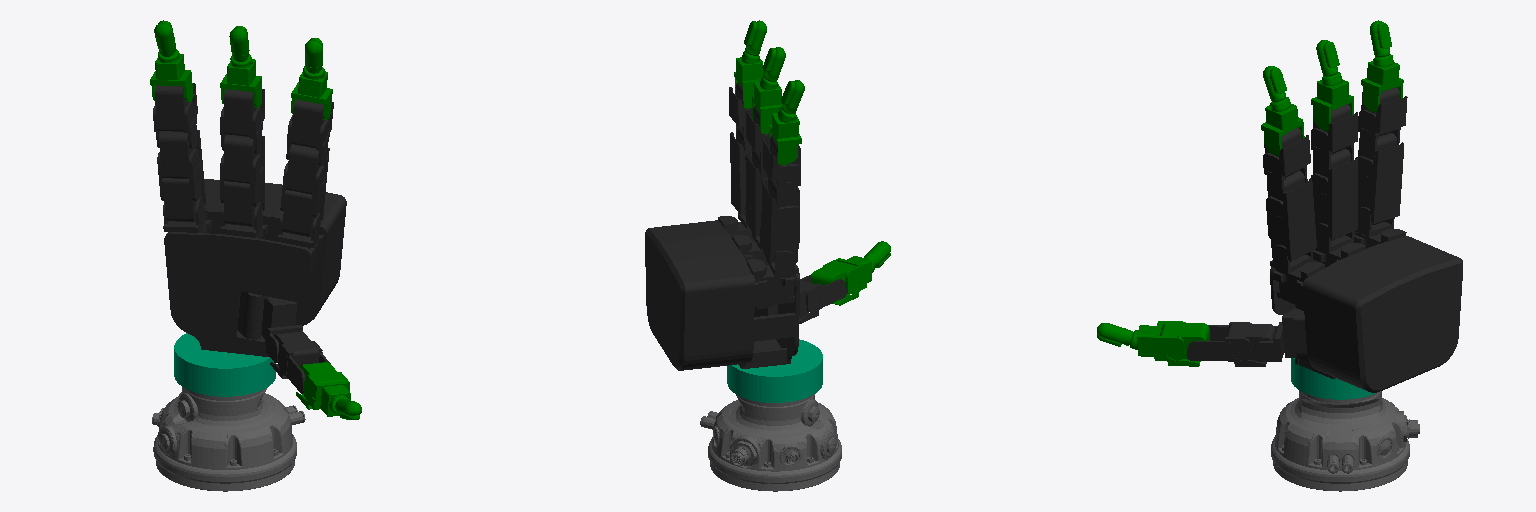
--- Facts derived from the render (not from the file) ---
Views: 3 orthographic renders of the robot side by side, from view 1: azimuth 30°, elevation 25°; view 2: azimuth 150°, elevation 25°; view 3: azimuth 270°, elevation 25°.
Robot: kuka_allegro — 28 links, 27 joints (23 revolute, 4 fixed); root link iiwa7_base_link; default pose: all joints at 0 but 1 set to mid-range because 0 is outside their limits (thumb_joint_0 = 0.925).
Links seen in each view (by area): view 1: palm_link, iiwa7_link_7, allegro_mount, ring_link_1, middle_link_1, index_link_1, thumb_link_3, thumb_link_0, ring_link_2, middle_link_2, index_link_2, ring_link_3 (+7 smaller); view 2: palm_link, iiwa7_link_7, allegro_mount, ring_link_1, thumb_link_3, ring_link_3, middle_link_3, index_link_3, ring_link_2, thumb_link_2, middle_link_1, index_link_1 (+3 smaller); view 3: palm_link, iiwa7_link_7, index_link_1, ring_link_1, thumb_link_3, middle_link_1, thumb_link_2, ring_link_3, middle_link_3, ring_link_2, index_link_3, middle_link_2 (+4 smaller).
Boxes of the visible links, bbox=[...] form: palm_link: bbox=[164, 179, 346, 356]; iiwa7_link_7: bbox=[152, 387, 305, 491]; allegro_mount: bbox=[174, 333, 275, 396]; ring_link_1: bbox=[157, 130, 205, 221]; middle_link_1: bbox=[220, 135, 264, 226]; index_link_1: bbox=[280, 144, 329, 236]; thumb_link_3: bbox=[296, 362, 361, 419]; thumb_link_0: bbox=[237, 292, 296, 344]; ring_link_2: bbox=[153, 83, 197, 148]; middle_link_2: bbox=[220, 89, 264, 154]; index_link_2: bbox=[286, 99, 333, 165]; ring_link_3: bbox=[150, 20, 193, 101]; palm_link: bbox=[645, 214, 799, 370]; iiwa7_link_7: bbox=[700, 394, 841, 491]; allegro_mount: bbox=[727, 339, 822, 402]; ring_link_1: bbox=[761, 180, 799, 263]; thumb_link_3: bbox=[811, 241, 890, 305]; ring_link_3: bbox=[769, 80, 804, 164]; middle_link_3: bbox=[752, 47, 785, 133]; index_link_3: bbox=[734, 20, 766, 108]; ring_link_2: bbox=[763, 135, 800, 206]; thumb_link_2: bbox=[799, 274, 846, 323]; middle_link_1: bbox=[746, 151, 768, 236]; index_link_1: bbox=[730, 127, 752, 215]; palm_link: bbox=[1270, 225, 1462, 392]; iiwa7_link_7: bbox=[1271, 390, 1419, 491]; index_link_1: bbox=[1266, 170, 1316, 261]; ring_link_1: bbox=[1357, 133, 1403, 224]; thumb_link_3: bbox=[1097, 321, 1209, 366]; middle_link_1: bbox=[1311, 149, 1357, 240]; thumb_link_2: bbox=[1187, 322, 1275, 366]; ring_link_3: bbox=[1361, 20, 1403, 112]; middle_link_3: bbox=[1311, 40, 1353, 131]; ring_link_2: bbox=[1358, 87, 1407, 159]; index_link_3: bbox=[1261, 66, 1304, 156]; middle_link_2: bbox=[1311, 104, 1357, 176].
Size in the robot's own frame: 0.165 by 0.2818 by 0.3603 metres.
Meshes: 18 distinct files referenced, 19 mesh visuals loaded (11 OBJ); not drawn: 7 (reference not matched to a file when rendering).

URDF robot description (kuka_allegro):
<?xml version="1.0" ?>
<!-- This file was autogenerated but we have modified quite a bit
Authors: Karl, Ankur

Karl did the dynamics compensation and obtained the following values for the index finger

Noise: 0.111576
Masses: 0.005, 0.125164, 0.131691, 0.0211922,
Rotor Inertia: 0.00386572, 0.00346965, 0.00433775, 0.00366413,
Viscous Friction: 0.0414019, 0.00587541, 0.010638, 0.0226948,
Coulomb Friction: 0.0523963, 0.0150275, 0.00616359, 0.0227036,
Mass Inertia:
5.1458e-05, 5.1458e-05, 6.125e-05, 0, 0, 0,
6.39979e-06, 8.88687e-05, 9.13751e-05, -3.26531e-06, 1.23963e-05, 2.07384e-05,
7.04217e-05, 3.95744e-05, 6.61125e-05, -9.64342e-05, 5.8796e-05, -3.62996e-05,
2.93743e-05, 7.21391e-05, 7.59731e-05, -3.51896e-05, -6.31225e-05, -9.25392e-07,

Center of Mass:
0, 0, 0,
0.027, 0, 0,
0.038, 0, 0,
0.029, 0, 0,

-->

<robot name="kuka_allegro" xmlns:xacro="http://www.ros.org/wiki/xacro">
  <material name="Black">
    <color rgba="0.0 0.0 0.0 1.0"/>
  </material>
  <material name="Blue">
    <color rgba="0.0 0.0 0.8 1.0"/>
  </material>
  <material name="Green">
    <color rgba="0.0 0.8 0.0 1.0"/>
  </material>
  <material name="Grey">
    <color rgba="0.4 0.4 0.4 1.0"/>
  </material>
  <material name="Orange">
    <color rgba="1.0 0.423529411765 0.0392156862745 1.0"/>
  </material>
  <material name="Brown">
    <color rgba="0.870588235294 0.811764705882 0.764705882353 1.0"/>
  </material>
  <material name="Red">
    <color rgba="0.8 0.0 0.0 1.0"/>
  </material>
  <material name="White">
    <color rgba="1.0 1.0 1.0 1.0"/>
  </material>
  <link name="iiwa7_base_link"/>
  <!--joint between {parent} and link_0-->
  <joint name="iiwa7_base_link_iiwa7_joint" type="fixed">
    <origin rpy="0 0 0" xyz="0 0 0"/>
    <parent link="iiwa7_base_link"/>
    <child link="iiwa7_link_0"/>
  </joint>
  <link name="iiwa7_link_0">
    <inertial>
      <origin rpy="0 0 0" xyz="-0.1 0 0.07"/>
      <mass value="5"/>
      <inertia ixx="0.05" ixy="0" ixz="0" iyy="0.06" iyz="0" izz="0.03"/>
    </inertial>
    <visual>
      <origin rpy="0 0 0" xyz="0 0 0"/>
      <geometry>
        <mesh filename="kuka_allegro_description/meshes/iiwa7/visual/link_0.obj"/>
      </geometry>
      <material name="Grey"/>
    </visual>
    <collision>
      <origin rpy="0 0 0" xyz="0 0 0"/>
      <geometry>
        <mesh filename="kuka_allegro_description/meshes/iiwa7/collision/link_0.obj"/>
      </geometry>
      <material name="Grey"/>
    </collision>
    <self_collision_checking>
      <origin rpy="0 0 0" xyz="0 0 0"/>
      <geometry>
        <capsule length="0.25" radius="0.15"/>
      </geometry>
    </self_collision_checking>
  </link>
  <!-- joint between link_0 and link_1 -->
  <joint name="iiwa7_joint_1" type="revolute">
    <parent link="iiwa7_link_0"/>
    <child link="iiwa7_link_1"/>
    <origin rpy="0 0 0" xyz="0 0 0.15"/>
    <axis xyz="0 0 1"/>
    <limit effort="300" lower="-2.96705972839" upper="2.96705972839" velocity="10"/>
    <safety_controller k_position="100" k_velocity="2" soft_lower_limit="-2.93215314335" soft_upper_limit="2.93215314335"/>
    <dynamics damping="5.5" friction="0.025"/>
  </joint>
  <link name="iiwa7_link_1">
    <inertial>
      <origin rpy="0 0 0" xyz="0 -0.03 0.12"/>
      <mass value="3.4525"/>
      <inertia ixx="0.02183" ixy="0" ixz="0" iyy="0.007703" iyz="-0.003887" izz="0.02083"/>
    </inertial>
    <visual>
      <origin rpy="0 0 0" xyz="0 0 0.0075"/>
      <geometry>
        <mesh filename="kuka_allegro_description/meshes/iiwa7/visual/link_1.obj"/>
      </geometry>
      <material name="Orange"/>
    </visual>
    <collision>
      <origin rpy="0 0 0" xyz="0 0 0.0075"/>
      <geometry>
        <mesh filename="kuka_allegro_description/meshes/iiwa7/collision/link_1.obj"/>
      </geometry>
      <material name="Orange"/>
    </collision>
  </link>
  <joint name="iiwa7_joint_2" type="revolute">
    <parent link="iiwa7_link_1"/>
    <child link="iiwa7_link_2"/>
    <origin rpy="1.57079632679   0 3.14159265359" xyz="0 0 0.19"/>
    <axis xyz="0 0 1"/>
    <limit effort="300" lower="-2.09439510239" upper="2.09439510239" velocity="10"/>
    <safety_controller k_position="100" k_velocity="2" soft_lower_limit="-2.05948851735" soft_upper_limit="2.05948851735"/>
    <dynamics damping="5.55" friction="0.025"/>
  </joint>
  <link name="iiwa7_link_2">
    <inertial>
      <origin rpy="0 0 0" xyz="0.0003 0.059 0.042"/>
      <mass value="3.4821"/>
      <inertia ixx="0.02076" ixy="0" ixz="-0.003626" iyy="0.02179" iyz="0" izz="0.00779"/>
    </inertial>
    <visual>
      <origin rpy="0 0 0" xyz="0 0 0"/>
      <geometry>
        <mesh filename="kuka_allegro_description/meshes/iiwa7/visual/link_2.obj"/>
      </geometry>
      <material name="Orange"/>
    </visual>
    <collision>
      <origin rpy="0 0 0" xyz="0 0 0"/>
      <geometry>
        <mesh filename="kuka_allegro_description/meshes/iiwa7/collision/link_2.obj"/>
      </geometry>
      <material name="Orange"/>
    </collision>
  </link>
  <joint name="iiwa7_joint_3" type="revolute">
    <parent link="iiwa7_link_2"/>
    <child link="iiwa7_link_3"/>
    <origin rpy="1.57079632679 0 3.14159265359" xyz="0 0.21 0"/>
    <axis xyz="0 0 1"/>
    <limit effort="300" lower="-2.96705972839" upper="2.96705972839" velocity="10"/>
    <safety_controller k_position="100" k_velocity="2" soft_lower_limit="-2.93215314335" soft_upper_limit="2.93215314335"/>
    <dynamics damping="5.5" friction="0.025"/>
  </joint>
  <link name="iiwa7_link_3">
    <inertial>
      <origin rpy="0 0 0" xyz="0 0.03 0.13"/>
      <mass value="4.05623"/>
      <inertia ixx="0.03204" ixy="0" ixz="0" iyy="0.00972" iyz="0.006227" izz="0.03042"/>
    </inertial>
    <visual>
      <origin rpy="0 0 0" xyz="0 0 -0.026"/>
      <geometry>
        <mesh filename="kuka_allegro_description/meshes/iiwa7/visual/link_3.obj"/>
      </geometry>
      <material name="Orange"/>
    </visual>
    <collision>
      <origin rpy="0 0 0" xyz="0 0 -0.026"/>
      <geometry>
        <mesh filename="kuka_allegro_description/meshes/iiwa7/collision/link_3.obj"/>
      </geometry>
      <material name="Orange"/>
    </collision>
  </link>
  <joint name="iiwa7_joint_4" type="revolute">
    <parent link="iiwa7_link_3"/>
    <child link="iiwa7_link_4"/>
    <origin rpy="1.57079632679 0 0" xyz="0 0 0.19"/>
    <axis xyz="0 0 1"/>
    <limit effort="300" lower="-2.09439510239" upper="2.09439510239" velocity="10"/>
    <safety_controller k_position="100" k_velocity="2" soft_lower_limit="-2.05948851735" soft_upper_limit="2.05948851735"/>
    <dynamics damping="5.5" friction="0.025"/>
  </joint>
  <link name="iiwa7_link_4">
    <inertial>
      <origin rpy="0 0 0" xyz="0 0.067 0.034"/>
      <mass value="3.4822"/>
      <inertia ixx="0.02178" ixy="0" ixz="0" iyy="0.02075" iyz="-0.003625" izz="0.007785"/>
    </inertial>
    <visual>
      <origin rpy="0 0 0" xyz="0 0 0"/>
      <geometry>
        <mesh filename="kuka_allegro_description/meshes/iiwa7/visual/link_4.obj"/>
      </geometry>
      <material name="Orange"/>
    </visual>
    <collision>
      <origin rpy="0 0 0" xyz="0 0 0"/>
      <geometry>
        <mesh filename="kuka_allegro_description/meshes/iiwa7/collision/link_4.obj"/>
      </geometry>
      <material name="Orange"/>
    </collision>
  </link>
  <joint name="iiwa7_joint_5" type="revolute">
    <parent link="iiwa7_link_4"/>
    <child link="iiwa7_link_5"/>
    <origin rpy="-1.57079632679 3.14159265359 0" xyz="0 0.21 0"/>
    <axis xyz="0 0 1"/>
    <limit effort="300" lower="-2.96705972839" upper="2.96705972839" velocity="10"/>
    <safety_controller k_position="100" k_velocity="2" soft_lower_limit="-2.93215314335" soft_upper_limit="2.93215314335"/>
    <dynamics damping="5.5" friction="0.025"/>
  </joint>
  <link name="iiwa7_link_5">
    <inertial>
      <origin rpy="0 0 0" xyz="0.0001 0.021 0.076"/>
      <mass value="2.1633"/>
      <inertia ixx="0.01287" ixy="0" ixz="0" iyy="0.005708" iyz="-0.003946" izz="0.01112"/>
    </inertial>
    <visual>
      <origin rpy="0 0 0" xyz="0 0 -0.026"/>
      <geometry>
        <mesh filename="kuka_allegro_description/meshes/iiwa7/visual/link_5.obj"/>
      </geometry>
      <material name="Orange"/>
    </visual>
    <collision>
      <origin rpy="0 0 0" xyz="0 0 -0.026"/>
      <geometry>
        <mesh filename="kuka_allegro_description/meshes/iiwa7/collision/link_5.obj"/>
      </geometry>
      <material name="Orange"/>
    </collision>
  </link>
  <joint name="iiwa7_joint_6" type="revolute">
    <parent link="iiwa7_link_5"/>
    <child link="iiwa7_link_6"/>
    <origin rpy="1.57079632679 0 0" xyz="0 0.06070 0.19"/>
    <axis xyz="0 0 1"/>
    <limit effort="300" lower="-2.09439510239" upper="2.09439510239" velocity="10"/>
    <safety_controller k_position="100" k_velocity="2" soft_lower_limit="-2.05948851735" soft_upper_limit="2.05948851735"/>
    <dynamics damping="0.5" friction="0.025"/>
  </joint>
  <link name="iiwa7_link_6">
    <inertial>
      <origin rpy="0 0 0" xyz="0 0.0006 0.0004"/>
      <mass value="2.3466"/>
      <inertia ixx="0.006509" ixy="0" ixz="0" iyy="0.006259" iyz="0.00031891" izz="0.004527"/>
    </inertial>
    <visual>
      <origin rpy="0 0 0" xyz="0 0 0"/>
      <geometry>
        <mesh filename="kuka_allegro_description/meshes/iiwa7/visual/link_6.obj"/>
      </geometry>
      <material name="Orange"/>
    </visual>
    <collision>
      <origin rpy="0 0 0" xyz="0 0 0"/>
      <geometry>
        <mesh filename="kuka_allegro_description/meshes/iiwa7/collision/link_6.obj"/>
      </geometry>
      <material name="Orange"/>
    </collision>
  </link>
  <joint name="iiwa7_joint_7" type="revolute">
    <parent link="iiwa7_link_6"/>
    <child link="iiwa7_link_7"/>
    <origin rpy="-1.57079632679 3.14159265359 0" xyz="0 0.081 0.06070"/>
    <axis xyz="0 0 1"/>
    <limit effort="300" lower="-3.05432619099" upper="3.05432619099" velocity="10"/>
    <safety_controller k_position="100" k_velocity="2" soft_lower_limit="-3.01941960595" soft_upper_limit="3.01941960595"/>
    <dynamics damping="5.5" friction="0.025"/>
  </joint>
  <link name="iiwa7_link_7">
    <inertial>
      <origin rpy="0 0 0" xyz="0 0 0.02"/>
      <mass value="3.129"/>
      <inertia ixx="0.01464" ixy="0.0005912" ixz="0" iyy="0.01465" iyz="0" izz="0.002872"/>
    </inertial>
    <visual>
      <origin rpy="0 0 0" xyz="0 0 -0.0005"/>
      <geometry>
        <mesh filename="kuka_allegro_description/meshes/iiwa7/visual/link_7.obj"/>
      </geometry>
      <material name="Grey"/>
    </visual>
    <collision>
      <origin rpy="0 0 0" xyz="0 0 -0.0005"/>
      <geometry>
        <mesh filename="kuka_allegro_description/meshes/iiwa7/collision/link_7.obj"/>
      </geometry>
      <material name="Grey"/>
    </collision>
  </link>
  <joint name="iiwa7_joint_ee" type="fixed">
    <parent link="iiwa7_link_7"/>
    <child link="iiwa7_link_ee"/>
    <origin rpy="0 0 0" xyz="0 0 0.071"/>
    <dynamics damping="5.5" friction="0.025"/>
  </joint>
  <link name="iiwa7_link_ee">
    <inertial>
      <origin rpy="0 0 0" xyz="0 0 0.0"/>
      <mass value="0.1"/>
      <inertia ixx="1e-3" ixy="0.0" ixz="0" iyy="1e-3" iyz="0" izz="1e-3"/>
    </inertial>
  </link>
  
  <!-- Load Gazebo lib and set the robot namespace -->
  <!-- <gazebo>
      <plugin name="gazebo_ros_control" filename="libgazebo_ros_control.so">
        <robotNamespace>/${robot_name}</robotNamespace>
      </plugin>
    </gazebo> -->
  <!-- Link0 -->
  <gazebo reference="iiwa7_link_0">
    <material>Gazebo/Grey</material>
    <mu1>0.2</mu1>
    <mu2>0.2</mu2>
  </gazebo>
  <!-- Link1 -->
  <gazebo reference="iiwa7_link_1">
    <material>Gazebo/Orange</material>
    <mu1>0.2</mu1>
    <mu2>0.2</mu2>
  </gazebo>
  <!-- Link2 -->
  <gazebo reference="iiwa7_link_2">
    <material>Gazebo/Orange</material>
    <mu1>0.2</mu1>
    <mu2>0.2</mu2>
  </gazebo>
  <!-- Link3 -->
  <gazebo reference="iiwa7_link_3">
    <material>Gazebo/Orange</material>
    <mu1>0.2</mu1>
    <mu2>0.2</mu2>
  </gazebo>
  <!-- Link4 -->
  <gazebo reference="iiwa7_link_4">
    <material>Gazebo/Orange</material>
    <mu1>0.2</mu1>
    <mu2>0.2</mu2>
  </gazebo>
  <!-- Link5 -->
  <gazebo reference="iiwa7_link_5">
    <material>Gazebo/Orange</material>
    <mu1>0.2</mu1>
    <mu2>0.2</mu2>
  </gazebo>
  <!-- Link6 -->
  <gazebo reference="iiwa7_link_6">
    <material>Gazebo/Orange</material>
    <mu1>0.2</mu1>
    <mu2>0.2</mu2>
  </gazebo>
  <!-- Link7 -->
  <gazebo reference="iiwa7_link_7">
    <material>Gazebo/Grey</material>
    <mu1>0.2</mu1>
    <mu2>0.2</mu2>
  </gazebo>
  <transmission name="iiwa7_tran_1">
    <robotNamespace>/iiwa7</robotNamespace>
    <type>transmission_interface/SimpleTransmission</type>
    <joint name="iiwa7_joint_1">
      <hardwareInterface>PositionJointInterface</hardwareInterface>
    </joint>
    <actuator name="iiwa7_motor_1">
      <hardwareInterface>PositionJointInterface</hardwareInterface>
      <mechanicalReduction>1</mechanicalReduction>
    </actuator>
  </transmission>
  <transmission name="iiwa7_tran_2">
    <robotNamespace>/iiwa7</robotNamespace>
    <type>transmission_interface/SimpleTransmission</type>
    <joint name="iiwa7_joint_2">
      <hardwareInterface>PositionJointInterface</hardwareInterface>
    </joint>
    <actuator name="iiwa7_motor_2">
      <hardwareInterface>PositionJointInterface</hardwareInterface>
      <mechanicalReduction>1</mechanicalReduction>
    </actuator>
  </transmission>
  <transmission name="iiwa7_tran_3">
    <robotNamespace>/iiwa7</robotNamespace>
    <type>transmission_interface/SimpleTransmission</type>
    <joint name="iiwa7_joint_3">
      <hardwareInterface>PositionJointInterface</hardwareInterface>
    </joint>
    <actuator name="iiwa7_motor_3">
      <hardwareInterface>PositionJointInterface</hardwareInterface>
      <mechanicalReduction>1</mechanicalReduction>
    </actuator>
  </transmission>
  <transmission name="iiwa7_tran_4">
    <robotNamespace>/iiwa7</robotNamespace>
    <type>transmission_interface/SimpleTransmission</type>
    <joint name="iiwa7_joint_4">
      <hardwareInterface>PositionJointInterface</hardwareInterface>
    </joint>
    <actuator name="iiwa7_motor_4">
      <hardwareInterface>PositionJointInterface</hardwareInterface>
      <mechanicalReduction>1</mechanicalReduction>
    </actuator>
  </transmission>
  <transmission name="iiwa7_tran_5">
    <robotNamespace>/iiwa7</robotNamespace>
    <type>transmission_interface/SimpleTransmission</type>
    <joint name="iiwa7_joint_5">
      <hardwareInterface>PositionJointInterface</hardwareInterface>
    </joint>
    <actuator name="iiwa7_motor_5">
      <hardwareInterface>PositionJointInterface</hardwareInterface>
      <mechanicalReduction>1</mechanicalReduction>
    </actuator>
  </transmission>
  <transmission name="iiwa7_tran_6">
    <robotNamespace>/iiwa7</robotNamespace>
    <type>transmission_interface/SimpleTransmission</type>
    <joint name="iiwa7_joint_6">
      <hardwareInterface>PositionJointInterface</hardwareInterface>
    </joint>
    <actuator name="iiwa7_motor_6">
      <hardwareInterface>PositionJointInterface</hardwareInterface>
      <mechanicalReduction>1</mechanicalReduction>
    </actuator>
  </transmission>
  <transmission name="iiwa7_tran_7">
    <robotNamespace>/iiwa7</robotNamespace>
    <type>transmission_interface/SimpleTransmission</type>
    <joint name="iiwa7_joint_7">
      <hardwareInterface>PositionJointInterface</hardwareInterface>
    </joint>
    <actuator name="iiwa7_motor_7">
      <hardwareInterface>PositionJointInterface</hardwareInterface>
      <mechanicalReduction>1</mechanicalReduction>
    </actuator>
  </transmission>
  <!-- ======================== BASE PARAMS ========================= -->
  <!-- ======================== FINGER PARAMS ======================== -->
  <!-- full height from joint to tip. when used,
       the radius of the finger tip sphere will be subtracted
       and one fixed link will be added for the tip. -->
  <!-- ========================= THUMB PARAMS ========================= -->
  <!-- ========================= LIMITS ========================= -->
  <!-- ============================================================================= -->
  <!-- BASE -->

  <link name="allegro_mount">
    <inertial>
      <mass value="0.05"/>
      <origin rpy="0 0 0" xyz="0 0 0"/>
      <inertia ixx="1e-4" ixy="0" ixz="0" iyy="1e-4" iyz="0" izz="1e-4"/>
    </inertial>
    <visual>
      <!-- <origin xyz="-0.0425 -0.0425 0" rpy="0 0 0" /> -->
      <origin rpy="0 0 0" xyz="0 0 0"/>
      <geometry>
        <mesh filename="kuka_allegro_description/meshes/mounts/allegro_mount.obj"/>
      </geometry>
      <material name="color_j7"/>
    </visual>
    <collision>
      <!-- <origin xyz="-0.0425 -0.0425 0" rpy="0 0 0" /> -->
      <origin rpy="0 0 0" xyz="0 0 0"/>
      <geometry>
        <mesh filename="kuka_allegro_description/meshes/mounts/allegro_mount.obj"/>
      </geometry>
    </collision>
  </link>
  <!-- <joint name="allegro_mount_joint1" type="fixed">
    
    <origin rpy="0 0 0" xyz="-0.00 -0.0 0.0"/>
    <parent link="iiwa7_link_ee"/>
    <child link="allegro_mount"/>

  </joint> -->
  <joint name="allegro_mount_joint" type="fixed">
    <!-- <origin xyz="0.065 0 0.0275" rpy="0 1.57 0" /> -->
    <origin rpy="0 -1.5708 0.785398" xyz="0.008219 -0.02063 0.08086"/>
    <parent link="allegro_mount"/>
    <child link="palm_link"/>

  </joint>
  
  <!-- BASE -->
  <link name="palm_link">
    <inertial>
      <mass value="0.4154"/>
      <origin rpy="0 0 0" xyz="0 0 0"/>
      <inertia ixx="1e-4" ixy="0" ixz="0" iyy="1e-4" iyz="0" izz="1e-4"/>
    </inertial>
    <visual>
      <geometry>
        <mesh filename="kuka_allegro_description/meshes/allegro/base_link.obj"/>
      </geometry>
      <origin rpy="0 0 0" xyz="0 0 0 "/>
      <material name="Grey">
        <color rgba="0.2 0.2 0.2 1"/>
      </material>
    </visual>
    <collision>
      <origin rpy="0.0 0 0" xyz="0 0 0"/>
      <geometry>
        <mesh filename="kuka_allegro_description/meshes/allegro/base_link.obj"/>
      </geometry>
    </collision>
  </link>
  <gazebo reference="palm_link">
    <material value="Gazebo/Grey"/>
  </gazebo>
  <!-- ============================================================================= -->
  <!-- FINGERS -->
  <!-- RIGHT HAND due to which finger is number 0 -->
  <!-- for LEFT HAND switch the sign of the **offset_origin_y** and **finger_angle_r** parameters-->
  <!-- [LINK 0, 4, 8] -->
  <link name="index_link_0">
    <collision>
      <geometry>
        <mesh filename="kuka_allegro_description/meshes/allegro/primary_base.obj"/>
      </geometry>
    </collision>
    <inertial>
      <mass value="0.005"/>
      <origin xyz="0 0 0"/>
      <inertia ixx="5.1458e-05" iyy="5.1458e-05" izz="6.125e-05" ixy="0" ixz="0" iyz="0"/>	
    </inertial>
    <visual>
      <geometry>
        <mesh filename="kuka_allegro_description/meshes/allegro/primary_base.obj"/>
      </geometry>
      <material name="Grey">
        <color rgba="0.2 0.2 0.2 1"/>
      </material>
    </visual>
  </link>
  <link name="index_link_1">
    <collision>
      <geometry>
        <mesh filename="kuka_allegro_description/meshes/allegro/primary_proximal.obj"/>
      </geometry>
    </collision>
    <inertial>
      <mass value="0.125164"/>
      <origin xyz="0.027 0 0"/>
      <inertia ixx="6.39979e-06" iyy="8.88687e-05" izz="9.13751e-05" ixy="-3.26531e-06" ixz="1.23963e-05" iyz="2.07384e-05"/>	
    </inertial>
    <visual>
      <geometry>
        <mesh filename="kuka_allegro_description/meshes/allegro/primary_proximal.obj"/>
      </geometry>
      <material name="Grey">
        <color rgba="0.2 0.2 0.2 1"/>
      </material>
    </visual>
  </link>
  <link name="index_link_2">
    <collision>
      <geometry>
        <mesh filename="kuka_allegro_description/meshes/allegro/primary_medial.obj"/>
      </geometry>
    </collision>
    <inertial>
      <mass value="0.131691"/>
      <origin xyz="0.039 0 0"/>
      <inertia ixx="7.04217e-05" iyy="3.95744e-05" izz="6.61125e-05" ixy="-9.64342e-05" ixz="5.8796e-05" iyz="-3.62996e-05"/>	
    </inertial>
    <visual>
      <geometry>
        <mesh filename="kuka_allegro_description/meshes/allegro/primary_medial.obj"/>
      </geometry>
      <material name="Grey">
        <color rgba="0.2 0.2 0.2 1"/>
      </material>
    </visual>
  </link>
  <link name="index_link_3">
    <collision>
      <geometry>
        <mesh filename="kuka_allegro_description/meshes/biotac/biotac_sensor.obj"/>
      </geometry>
    </collision>
    <inertial>
      <mass value="0.0211922"/>
      <origin xyz="0.029 0 0"/>
      <inertia ixx="2.93743e-05" iyy="7.21391e-05" izz="7.59731e-05" ixy="-3.51896e-05" ixz="-6.31225e-05" iyz="-9.25392e-07"/>
    </inertial>
    <visual>
      <geometry>
        <mesh filename="kuka_allegro_description/meshes/biotac/biotac_sensor.obj"/>
      </geometry>
      <material name="Green">
        <color rgba="0. 0.5 0. 1"/>
      </material>
    </visual>
  </link>
  <link name="middle_link_0">
    <collision>
      <geometry>
        <mesh filename="kuka_allegro_description/meshes/allegro/primary_base.obj"/>
      </geometry>
    </collision>
    <inertial>
      <mass value="0.005"/>
      <origin xyz="0 0 0"/>
      <inertia ixx="5.1458e-05" iyy="5.1458e-05" izz="6.125e-05" ixy="0" ixz="0" iyz="0"/>	
    </inertial>
    <visual>
      <geometry>
        <mesh filename="kuka_allegro_description/meshes/allegro/primary_base.obj"/>
      </geometry>
      <material name="Grey">
        <color rgba="0.2 0.2 0.2 1"/>
      </material>
    </visual>
  </link>
  <link name="middle_link_1">
    <collision>
      <geometry>
        <mesh filename="kuka_allegro_description/meshes/allegro/primary_proximal.obj"/>
      </geometry>
    </collision>
    <inertial>
      <mass value="0.125164"/>
      <origin xyz="0.027 0 0"/>
      <inertia ixx="6.39979e-06" iyy="8.88687e-05" izz="9.13751e-05" ixy="-3.26531e-06" ixz="1.23963e-05" iyz="2.07384e-05"/>	
    </inertial>
    <visual>
      <geometry>
        <mesh filename="kuka_allegro_description/meshes/allegro/primary_proximal.obj"/>
      </geometry>
      <material name="Grey">
        <color rgba="0.2 0.2 0.2 1"/>
      </material>
    </visual>
  </link>
  <link name="middle_link_2">
    <collision>
      <geometry>
        <mesh filename="kuka_allegro_description/meshes/allegro/primary_medial.obj"/>
      </geometry>
    </collision>
    <inertial>
      <mass value="0.131691"/>
      <origin xyz="0.039 0 0"/>
      <inertia ixx="7.04217e-05" iyy="3.95744e-05" izz="6.61125e-05" ixy="-9.64342e-05" ixz="5.8796e-05" iyz="-3.62996e-05"/>	
    </inertial>
    <visual>
      <geometry>
        <mesh filename="kuka_allegro_description/meshes/allegro/primary_medial.obj"/>
      </geometry>
      <material name="Grey">
        <color rgba="0.2 0.2 0.2 1"/>
      </material>
    </visual>
  </link>
  <link name="middle_link_3">
    <collision>
      <geometry>
        <mesh filename="kuka_allegro_description/meshes/biotac/biotac_sensor.obj"/>
      </geometry>
    </collision>
    <inertial>
      <mass value="0.0211922"/>
      <origin xyz="0.029 0 0"/>
      <inertia ixx="2.93743e-05" iyy="7.21391e-05" izz="7.59731e-05" ixy="-3.51896e-05" ixz="-6.31225e-05" iyz="-9.25392e-07"/>
    </inertial>
    <visual>
      <geometry>
        <mesh filename="kuka_allegro_description/meshes/biotac/biotac_sensor.obj"/>
      </geometry>
      <material name="Green">
        <color rgba="0 0.5 0 1"/>
      </material>
    </visual>
  </link>
  <link name="ring_link_0">
    <collision>
      <geometry>
        <mesh filename="kuka_allegro_description/meshes/allegro/primary_base.obj"/>
      </geometry>
    </collision>
    <inertial>
      <mass value="0.005"/>
      <origin xyz="0 0 0"/>
      <inertia ixx="5.1458e-05" iyy="5.1458e-05" izz="6.125e-05" ixy="0" ixz="0" iyz="0"/>	
    </inertial>
    <visual>
      <geometry>
        <mesh filename="kuka_allegro_description/meshes/allegro/primary_base.obj"/>
      </geometry>
      <material name="Grey">
        <color rgba="0.2 0.2 0.2 1"/>
      </material>
    </visual>
  </link>
  <link name="ring_link_1">
    <collision>
      <geometry>
        <mesh filename="kuka_allegro_description/meshes/allegro/primary_proximal.obj"/>
      </geometry>
    </collision>
    <inertial>
      <mass value="0.125164"/>
      <origin xyz="0.027 0 0"/>
      <inertia ixx="6.39979e-06" iyy="8.88687e-05" izz="9.13751e-05" ixy="-3.26531e-06" ixz="1.23963e-05" iyz="2.07384e-05"/>	
    </inertial>
    <visual>
      <geometry>
        <mesh filename="kuka_allegro_description/meshes/allegro/primary_proximal.obj"/>
      </geometry>
      <material name="Grey">
        <color rgba="0.2 0.2 0.2 1"/>
      </material>
    </visual>
  </link>
  <link name="ring_link_2">
    <collision>
      <geometry>
        <mesh filename="kuka_allegro_description/meshes/allegro/primary_medial.obj"/>
      </geometry>
    </collision>
    <inertial>
      <mass value="0.131691"/>
      <origin xyz="0.039 0 0"/>
      <inertia ixx="7.04217e-05" iyy="3.95744e-05" izz="6.61125e-05" ixy="-9.64342e-05" ixz="5.8796e-05" iyz="-3.62996e-05"/>	
    </inertial>
    <visual>
      <geometry>
        <mesh filename="kuka_allegro_description/meshes/allegro/primary_medial.obj"/>
      </geometry>
      <material name="Grey">
        <color rgba="0.2 0.2 0.2 1"/>
      </material>
    </visual>
  </link>
  <link name="ring_link_3">
    <collision>
      <geometry>
        <mesh filename="kuka_allegro_description/meshes/biotac/biotac_sensor.obj"/>
      </geometry>
    </collision>
    <inertial>
      <mass value="0.0211922"/>
      <origin xyz="0.029 0 0"/>
      <inertia ixx="2.93743e-05" iyy="7.21391e-05" izz="7.59731e-05" ixy="-3.51896e-05" ixz="-6.31225e-05" iyz="-9.25392e-07"/>
    </inertial>
    <visual>
      <geometry>
        <mesh filename="kuka_allegro_description/meshes/biotac/biotac_sensor.obj"/>
      </geometry>
      <material name="Green">
        <color rgba="0 0.5 0 1"/>
      </material>
    </visual>
  </link>
  <link name="thumb_link_0">
    <collision>
      <geometry>
        <mesh filename="kuka_allegro_description/meshes/allegro/thumb_base.obj"/>
      </geometry>
    </collision>
    <inertial>
      <mass value="0.1"/>
      <inertia ixx="5.1458e-5" ixy="0" ixz="0" iyy="5.1458e-5" iyz="0" izz="6.125e-5"/>
    </inertial>
    <visual>
      <geometry>
        <mesh filename="kuka_allegro_description/meshes/allegro/thumb_base.obj"/>
      </geometry>
      <material name="Grey">
        <color rgba="0.2 0.2 0.2 1"/>
      </material>
    </visual>
  </link>
  <link name="thumb_link_1">
    <collision>
      <geometry>
        <mesh filename="kuka_allegro_description/meshes/allegro/thumb_proximal.obj"/>
      </geometry>
    </collision>
    <inertial>
      <mass value="0.1"/>
      <inertia ixx="5.1458e-5" ixy="0" ixz="0" iyy="5.1458e-5" iyz="0" izz="6.125e-5"/>
    </inertial>
    <visual>
      <geometry>
        <mesh filename="kuka_allegro_description/meshes/allegro/thumb_proximal.obj"/>
      </geometry>
      <material name="Grey">
        <color rgba="0.2 0.2 0.2 1"/>
      </material>
    </visual>
  </link>
  <link name="thumb_link_2">
    <collision>
      <geometry>
        <mesh filename="kuka_allegro_description/meshes/allegro/thumb_medial.obj"/>
      </geometry>
    </collision>
    <inertial>
      <mass value="0.1"/>
      <inertia ixx="5.1458e-5" ixy="0" ixz="0" iyy="5.1458e-5" iyz="0" izz="6.125e-5"/>
    </inertial>
    <visual>
      <geometry>
        <mesh filename="kuka_allegro_description/meshes/allegro/thumb_medial.obj"/>
      </geometry>
      <material name="Grey">
        <color rgba="0.2 0.2 0.2 1"/>
      </material>
    </visual>
  </link>
  <link name="thumb_link_3">
    <collision>
      <geometry>
        <mesh filename="kuka_allegro_description/meshes/biotac/biotac_sensor_thumb.obj"/>
      </geometry>
    </collision>
    <inertial>
      <mass value="0.1"/>
      <inertia ixx="5.1458e-5" ixy="0" ixz="0" iyy="5.1458e-5" iyz="0" izz="6.125e-5"/>
    </inertial>
    <visual>
      <geometry>
        <mesh filename="kuka_allegro_description/meshes/biotac/biotac_sensor_thumb.obj"/>
      </geometry>
      <material name="Green">
        <color rgba="0 0.5 0 1"/>
      </material>
    </visual>
  </link>
  <joint name="index_joint_0" type="revolute">
    <axis xyz="0 0 1"/>
    <limit effort="0.35" lower="-0.558488888889" upper="0.558488888889" velocity="6.283"/>
    <origin rpy="3.1415 -1.57075 -0.0872638888889" xyz="0.0514302 -0.03632 -0.0113"/>
    <parent link="palm_link"/>
    <child link="index_link_0"/>
    <dynamics damping="0.0414019" friction="0.0523963"/>
  </joint>
  <joint name="index_joint_1" type="revolute">
    <axis xyz="0 0 1"/>
    <limit effort="0.35" lower="-0.279244444444" upper="1.727825" velocity="6.283"/>
    <origin rpy="3.1415 -1.57075 1.57075" xyz="0.0 0.0 0.0"/>
    <parent link="index_link_0"/>
    <child link="index_link_1"/>
    <dynamics damping="0.00587541" friction="0.0150275"/>
  </joint>
  <joint name="index_joint_2" type="revolute">
    <axis xyz="0 0 1"/>
    <limit effort="0.35" lower="-0.279244444444" upper="1.727825" velocity="6.283"/>
    <origin rpy="0.0 0.0 0.0" xyz="0.054 0.0 0.0"/>
    <parent link="index_link_1"/>
    <child link="index_link_2"/>
    <dynamics damping="0.010638" friction="0.00616359"/>
  </joint>
  <joint name="index_joint_3" type="revolute">
    <axis xyz="0 0 1"/>
    <limit effort="0.35" lower="-0.279244444444" upper="1.727825" velocity="6.283"/>
    <origin rpy="0.0 0.0 0.0" xyz="0.0384 0.0 0.0"/>
    <parent link="index_link_2"/>
    <child link="index_link_3"/>
    <dynamics damping="0.0226948" friction="0.0227036"/>
  </joint>
  <joint name="middle_joint_0" type="revolute">
    <axis xyz="0 0 1"/>
    <limit effort="0.35" lower="-0.558488888889" upper="0.558488888889" velocity="6.283"/>
    <origin rpy="3.1415 -1.57075 0" xyz="0.0537375 0.0087771 -0.0113"/>
    <parent link="palm_link"/>
    <child link="middle_link_0"/>
    <dynamics damping="0.0414019" friction="0.0523963"/>
  </joint>
  <joint name="middle_joint_1" type="revolute">
    <axis xyz="0 0 1"/>
    <limit effort="0.35" lower="-0.279244444444" upper="1.727825" velocity="6.283"/>
    <origin rpy="3.1415 -1.57075 1.57075" xyz="0.0 0.0 0.0"/>
    <parent link="middle_link_0"/>
    <child link="middle_link_1"/>
    <dynamics damping="0.00587541" friction="0.0150275"/>
  </joint>
  <joint name="middle_joint_2" type="revolute">
    <axis xyz="0 0 1"/>
    <limit effort="0.35" lower="-0.279244444444" upper="1.727825" velocity="6.283"/>
    <origin rpy="0.0 0.0 0.0" xyz="0.054 0.0 0.0"/>
    <parent link="middle_link_1"/>
    <child link="middle_link_2"/>
    <dynamics damping="0.010638" friction="0.00616359"/>
  </joint>
  <joint name="middle_joint_3" type="revolute">
    <axis xyz="0 0 1"/>
    <limit effort="0.35" lower="-0.279244444444" upper="1.727825" velocity="6.283"/>
    <origin rpy="0.0 0.0 0.0" xyz="0.0384 0.0 0.0"/>
    <parent link="middle_link_2"/>
    <child link="middle_link_3"/>
    <dynamics damping="0.0226948" friction="0.0227036"/>
  </joint>
  <joint name="ring_joint_0" type="revolute">
    <axis xyz="0 0 1"/>
    <limit effort="0.35" lower="-0.558488888889" upper="0.558488888889" velocity="6.283"/>
    <origin rpy="3.1415 -1.57075 0.0872638888889" xyz="0.0514302 0.0538749 -0.0113"/>
    <parent link="palm_link"/>
    <child link="ring_link_0"/>
    <dynamics damping="0.0414019" friction="0.0523963"/>
  </joint>
  <joint name="ring_joint_1" type="revolute">
    <axis xyz="0 0 1"/>
    <limit effort="0.35" lower="-0.279244444444" upper="1.727825" velocity="6.283"/>
    <origin rpy="3.1415 -1.57075 1.57075" xyz="0.0 0.0 0.0"/>
    <parent link="ring_link_0"/>
    <child link="ring_link_1"/>
    <dynamics damping="0.00587541" friction="0.0150275"/>
  </joint>
  <joint name="ring_joint_2" type="revolute">
    <axis xyz="0 0 1"/>
    <limit effort="0.35" lower="-0.279244444444" upper="1.727825" velocity="6.283"/>
    <origin rpy="0.0 0.0 0.0" xyz="0.054 0.0 0.0"/>
    <parent link="ring_link_1"/>
    <child link="ring_link_2"/>
    <dynamics damping="0.010638" friction="0.00616359"/>
  </joint>
  <joint name="ring_joint_3" type="revolute">
    <axis xyz="0 0 1"/>
    <limit effort="0.35" lower="-0.279244444444" upper="1.727825" velocity="6.283"/>
    <origin rpy="0.0 0.0 0.0" xyz="0.0384 0.0 0.0"/>
    <parent link="ring_link_2"/>
    <child link="ring_link_3"/>
    <dynamics damping="0.0226948" friction="0.0227036"/>
  </joint>
  <joint name="thumb_joint_0" type="revolute">
    <axis xyz="0 0 1"/>
    <limit effort="0.35" lower="0.279244444444" upper="1.57075" velocity="6.283"/>
    <origin rpy="-1.57075 -1.57075 1.48348611111" xyz="-0.0367482 -0.0081281 -0.0295"/>
    <parent link="palm_link"/>
    <child link="thumb_link_0"/>
    <dynamics friction="0.035"/>
  </joint>
  <joint name="thumb_joint_1" type="revolute">
    <axis xyz="0 0 1"/>
    <limit effort="0.35" lower="-0.331602777778" upper="1.15188333333" velocity="6.283"/>
    <origin rpy="1.57075 0 0" xyz="0.005 0.0 0.0"/>
    <parent link="thumb_link_0"/>
    <child link="thumb_link_1"/>
    <dynamics friction="0.035"/>
  </joint>
  <joint name="thumb_joint_2" type="revolute">
    <axis xyz="0 0 1"/>
    <limit effort="0.35" lower="-0.279244444444" upper="1.727825" velocity="6.283"/>
    <origin rpy="3.1415 -1.57075 0.0" xyz="0 0 0.0554"/>
    <parent link="thumb_link_1"/>
    <child link="thumb_link_2"/>
    <dynamics friction="0.035"/>
  </joint>
  <joint name="thumb_joint_3" type="revolute">
    <axis xyz="0 0 1"/>
    <limit effort="0.35" lower="-0.279244444444" upper="1.76273055556" velocity="6.283"/>
    <origin rpy="0.0 0.0 0.0" xyz="0.0514 0.0 0.0"/>
    <parent link="thumb_link_2"/>
    <child link="thumb_link_3"/>
    <dynamics friction="0.035"/>
  </joint>
  <!-- ============================================================================= -->

  <!-- Create a different *root* for the allegro hand -->
  <!-- Note: this offset is just eyeballed... -->
  <joint name="iiwa7_allegro" type="fixed">
    <parent link="iiwa7_link_ee"/>
    <child link="allegro_mount"/>
    <origin rpy="0 0 0" xyz="0 0 0"/>
  </joint>
  
</robot>
